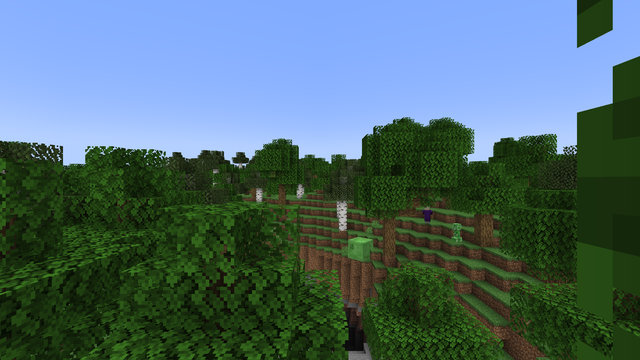creepers: (451, 222, 461, 241)
slimes: (350, 236, 371, 259)
sorcieres: (423, 209, 430, 223)
